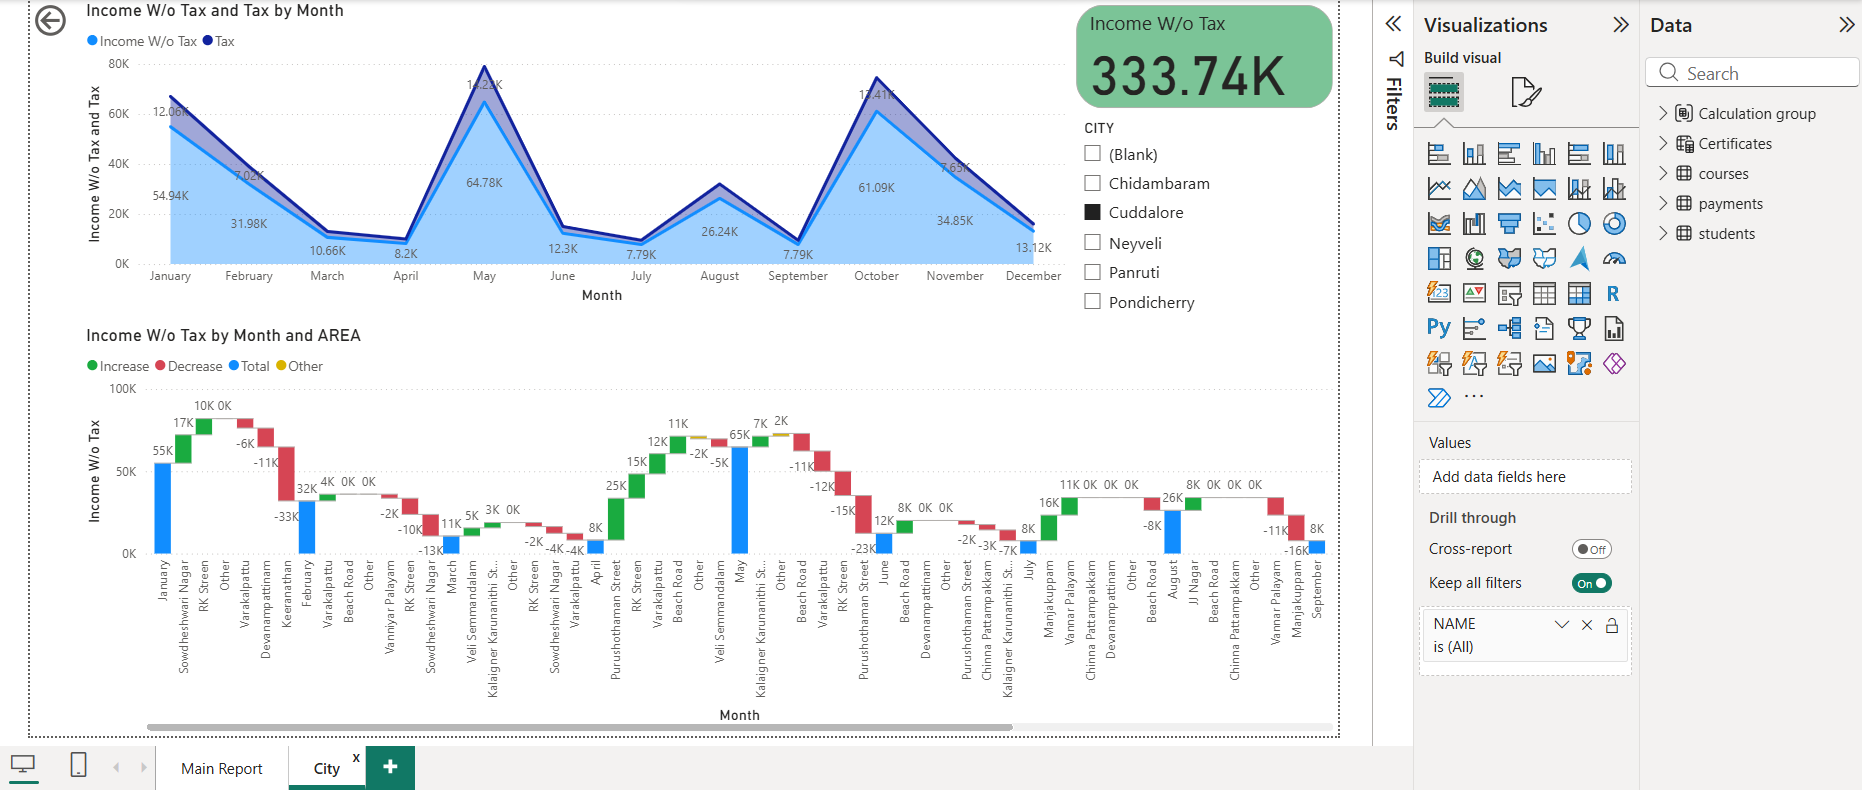

Layout of this report page (visuals, bound fields, positions):
{"tool":"powerbi","page":{"name":"City","canvas":[1280,720],"ordinal":1},"visuals":[{"type":"waterfallChart","fields":{"Category":["payments.Date.Variation.Date Hierarchy.Month"],"Y":["Calculation group.Income W/o Tax"],"Breakdown":["students.AREA"]},"box":[50.1,317.9,1230.2,402.3],"z":0},{"type":"stackedAreaChart","fields":{"Y":["Calculation group.Income W/o Tax","Calculation group.Tax"],"Category":["payments.Date.Variation.Date Hierarchy.Month"]},"box":[50.1,0,968.5,302],"z":1000},{"type":"slicer","fields":{"Values":["students.CITY"]},"box":[1018.6,111.3,261.7,206.7],"z":2000},{"type":"cardVisual","fields":{"Data":["Calculation group.Income W/o Tax"]},"box":[1018.6,0,261.7,111.3],"z":3000},{"type":"actionButton","box":[0,0,100,40],"z":3001}]}

Visuals, with their boxes on the page's 1280x720 design canvas (x1, y1, x2, y2). These are canvas units, not pixel positions in the 1862x790 screenshot, which may show the page scaled, cropped or inside an application window:
waterfallChart - payments.Date.Variation.Date Hierarchy.Month x Calculation group.Income W/o Tax: pyautogui.locateOnScreen(50, 318, 1280, 720)
stackedAreaChart - Calculation group.Income W/o Tax x Calculation group.Tax: pyautogui.locateOnScreen(50, 0, 1019, 302)
slicer - students.CITY: pyautogui.locateOnScreen(1019, 111, 1280, 318)
cardVisual - Calculation group.Income W/o Tax: pyautogui.locateOnScreen(1019, 0, 1280, 111)
actionButton: pyautogui.locateOnScreen(0, 0, 100, 40)
